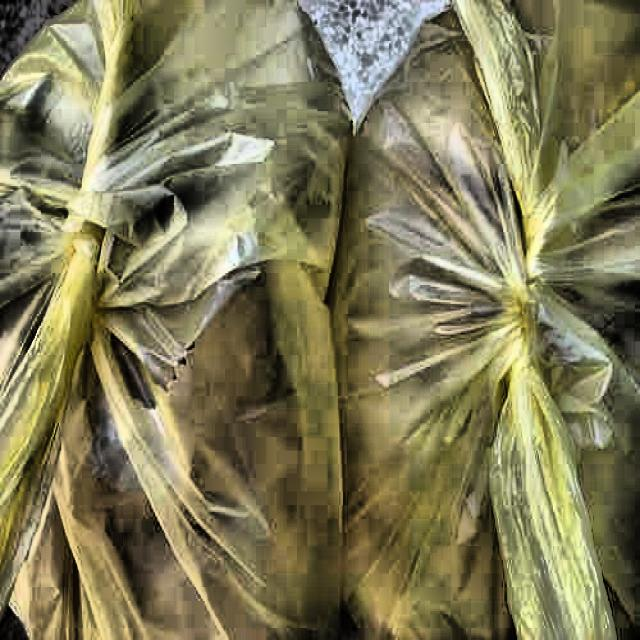Plastic: (4, 1, 358, 636), (340, 10, 640, 639)
